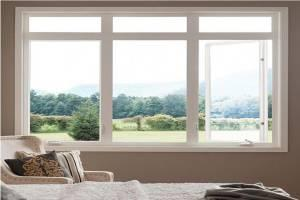window: (14, 7, 287, 152)
